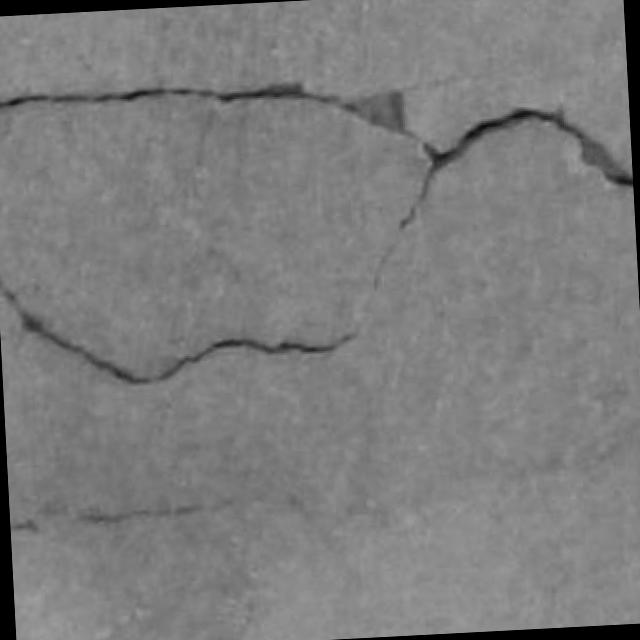crack: (373, 108, 632, 293), (0, 279, 357, 386), (401, 108, 632, 230), (0, 83, 413, 138), (426, 108, 632, 187), (10, 502, 233, 533), (73, 506, 205, 525), (10, 520, 40, 533)
